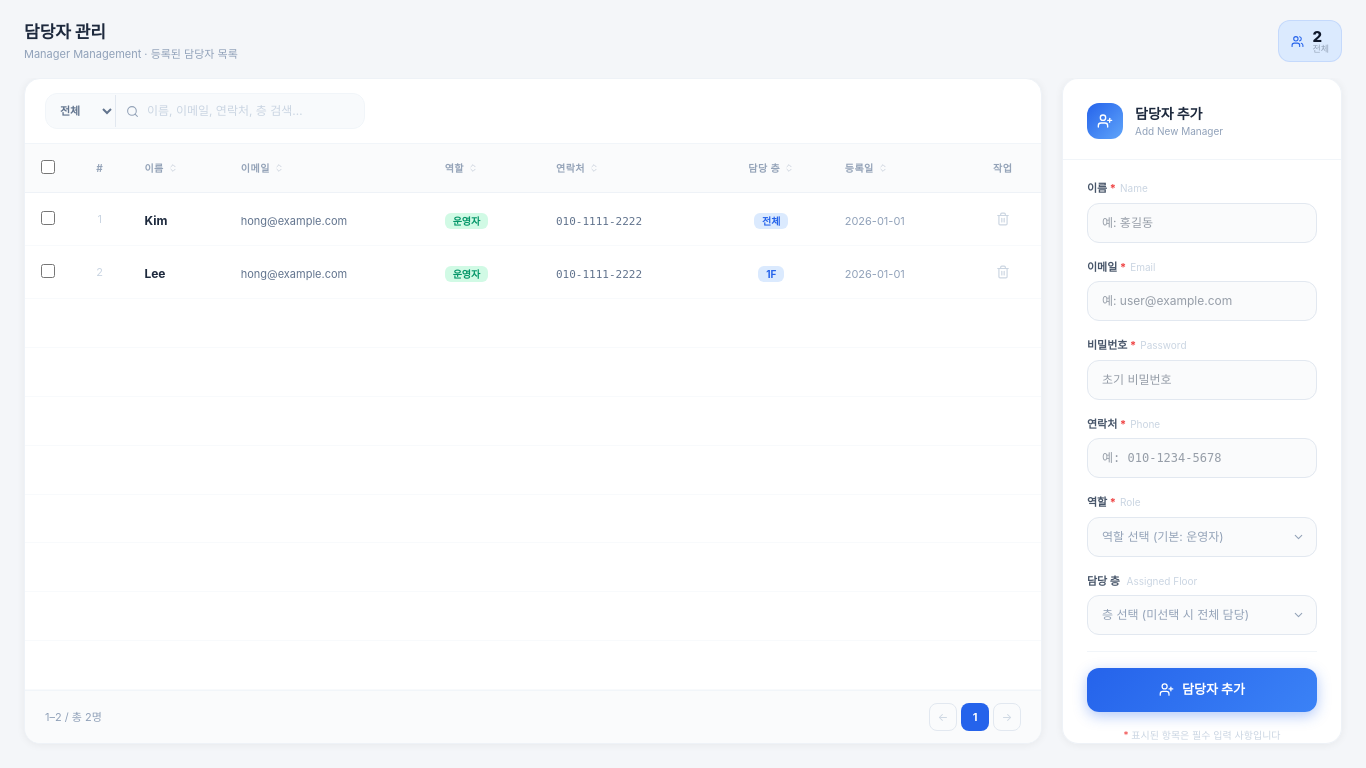
ManagersPage › matches admins with no assigned floor when searching the floor field for 전체
The image size is (1366, 768).
Select "담당 층" in the 1st dropdown showing "전체" at (81, 111), box [46, 95, 116, 127]
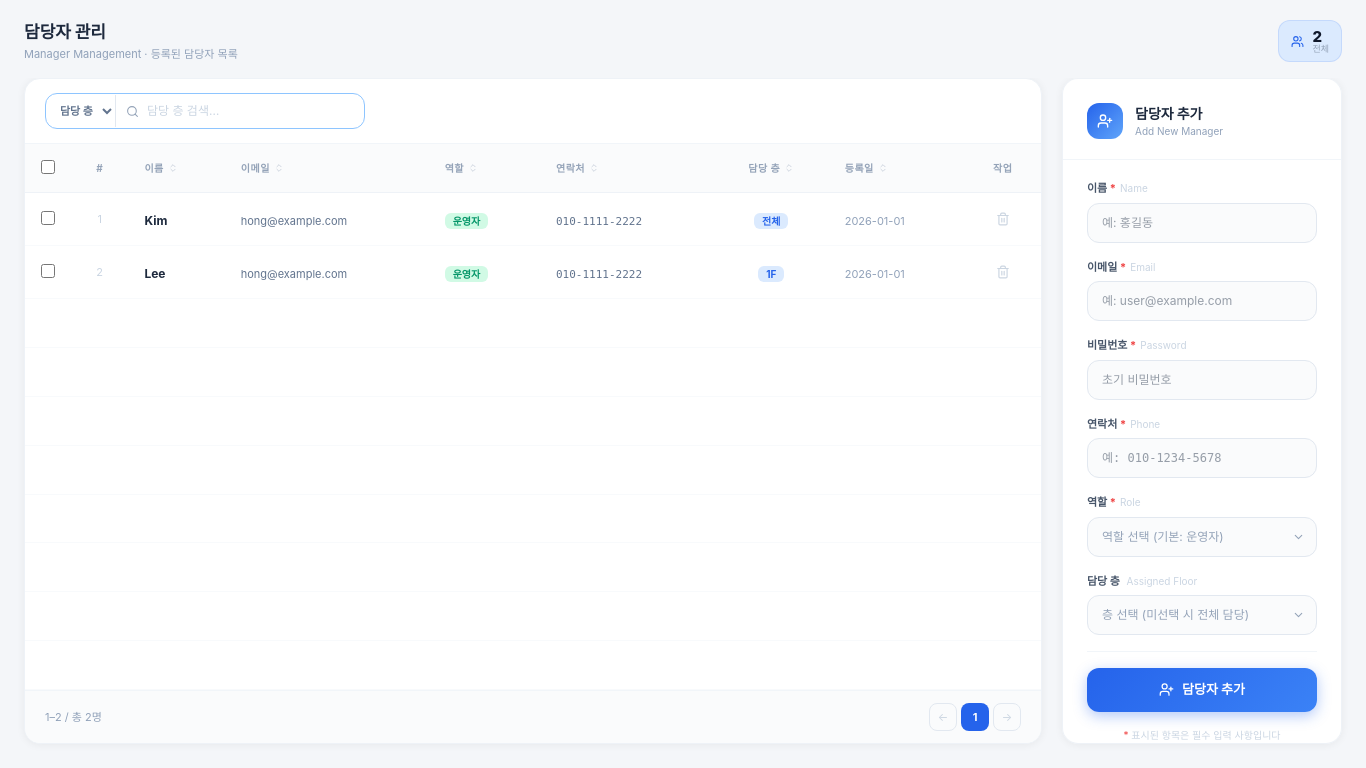
Type "전체" into the field with placeholder "담당 층 검색…".
click(250, 111); type("전체")  # box [147, 102, 354, 120]
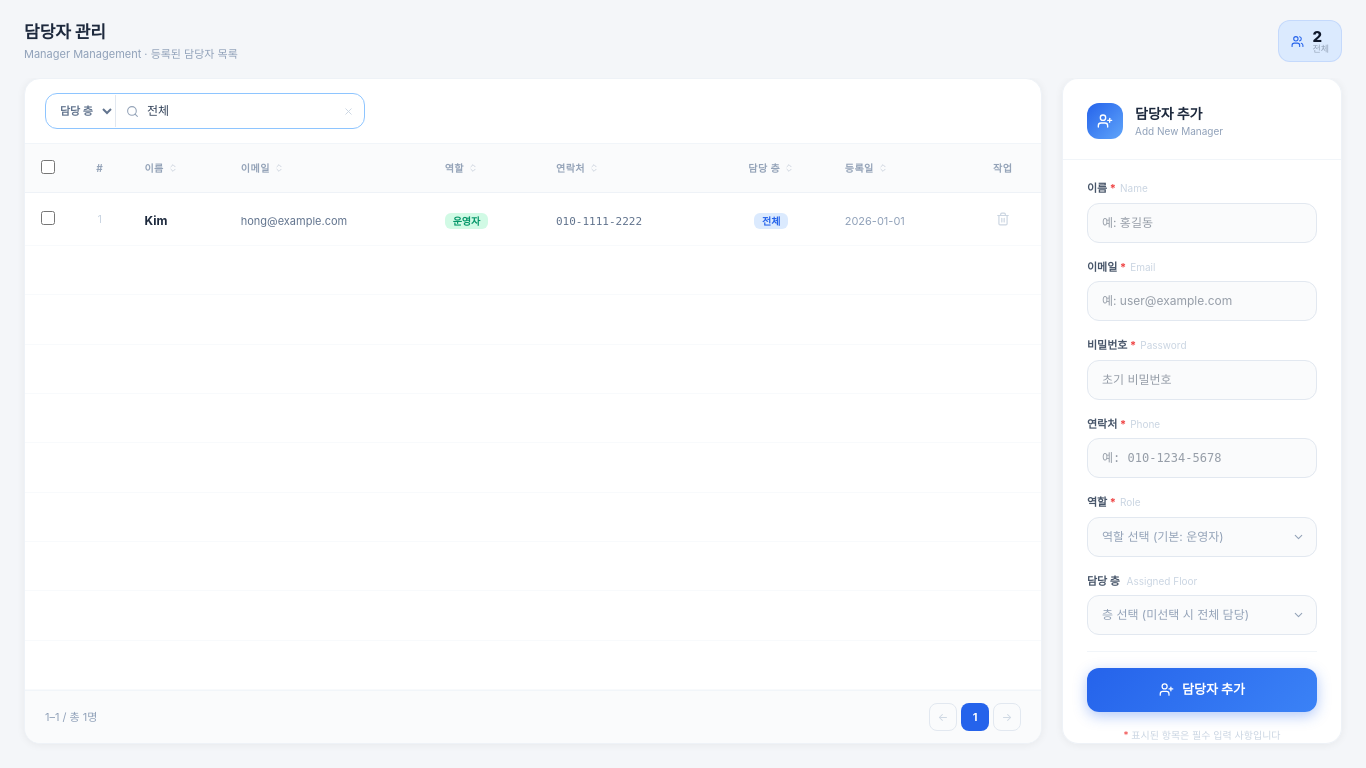
Expected: the text "Kim" is shown, [144, 213, 167, 228]
Result: the text "Lee" is gone
